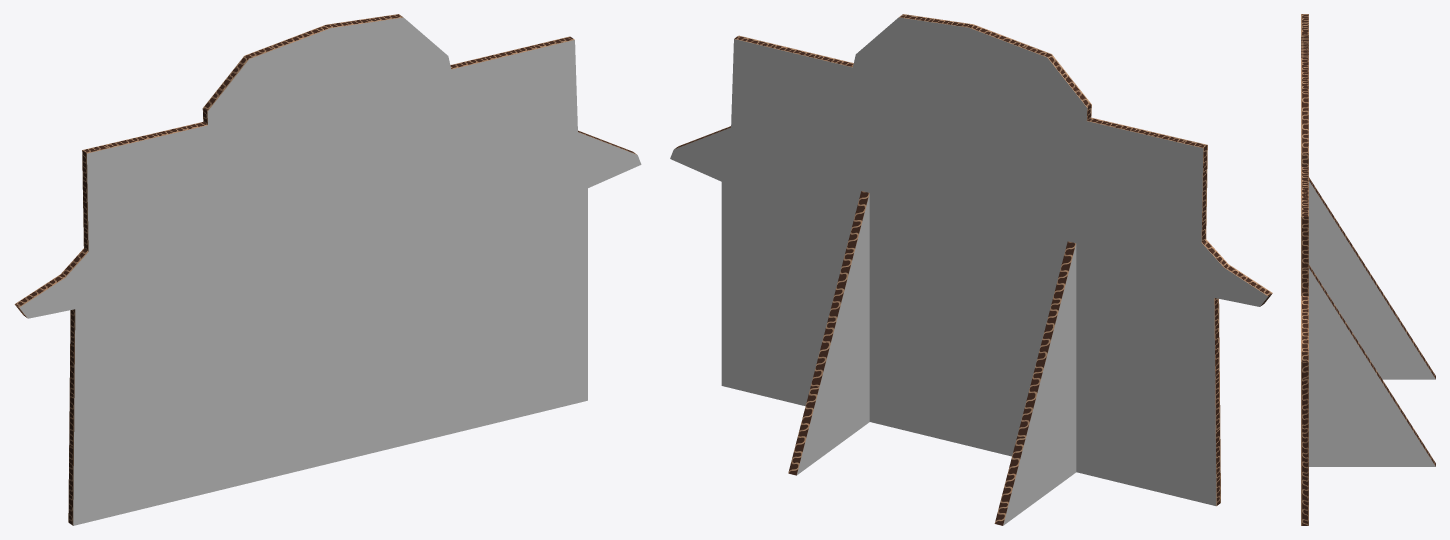
The model's file is Saloon.fbx.
3 renders of one model, left to right at view 1: azimuth 30°, elevation 25°; view 2: azimuth 150°, elevation 25°; view 3: azimuth 270°, elevation 25°, orthographic. The views are drawn at different scales.
Parts seen in each view (by area): view 1: Saloon_LOD0; view 2: Saloon_LOD0; view 3: Saloon_LOD0.
Boxes of the visible parts, x1=… form: Saloon_LOD0: x1=14, y1=14, x2=641, y2=525; Saloon_LOD0: x1=670, y1=14, x2=1272, y2=525; Saloon_LOD0: x1=1301, y1=14, x2=1435, y2=525.
Bounding box in the file's own units: 1446 × 967 × 326.
